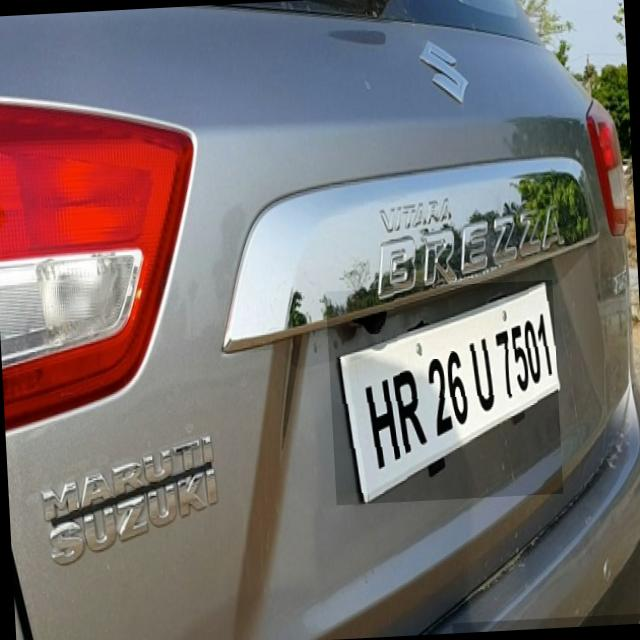Plate: (327, 281, 565, 507)
